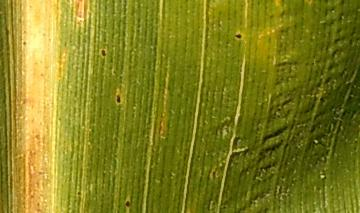tarspot: (112, 91, 125, 107), (233, 28, 244, 46), (74, 187, 86, 201), (98, 45, 109, 59), (124, 196, 133, 210)
